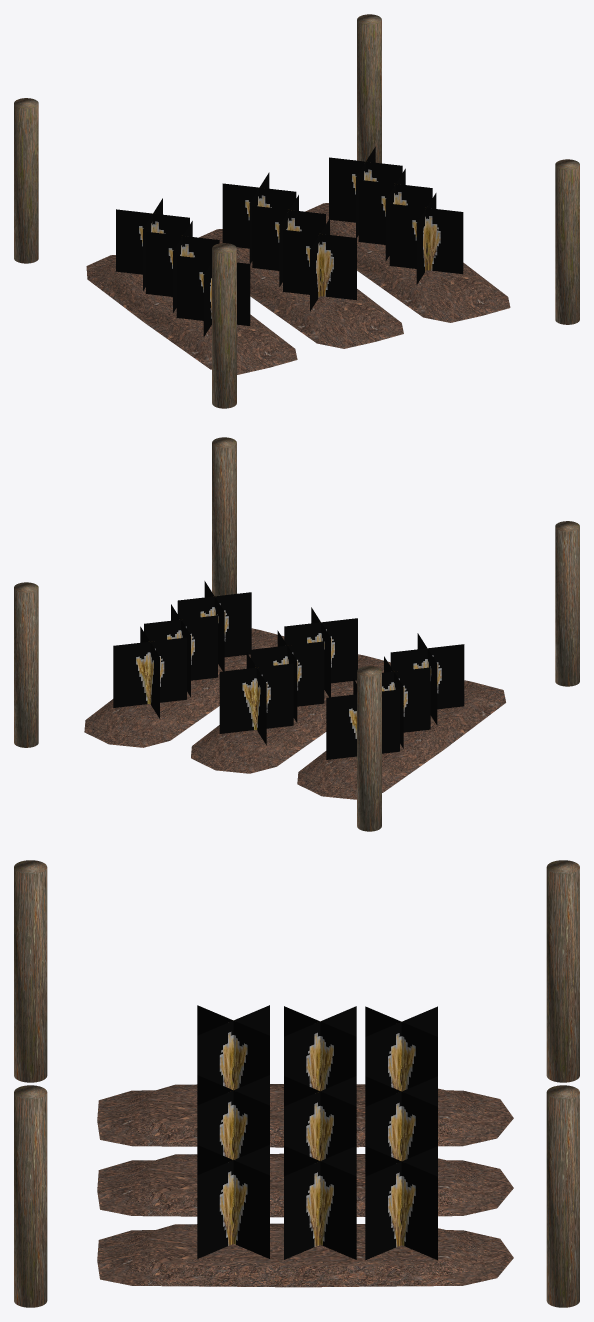
Rendered from wheatField.glb.
3 renders of one model, top to bottom at view 1: azimuth 30°, elevation 25°; view 2: azimuth 150°, elevation 25°; view 3: azimuth 270°, elevation 25°, orthographic. The views are drawn at different scales.
Parts seen in each view (by area): view 1: Plane, Cylinder.007; view 2: Plane, Cylinder.007; view 3: Plane, Cylinder.007.
Part boxes in pixels (x1,y1,x2,y2): Plane: [86, 146, 510, 374]; Cylinder.007: [14, 14, 579, 408]; Plane: [84, 581, 505, 799]; Cylinder.007: [14, 437, 579, 831]; Plane: [97, 1005, 513, 1287]; Cylinder.007: [14, 860, 579, 1307].
Size of the model in its own units: 2.94 by 1.19 by 2.94.
3 materials, 3 textured.
